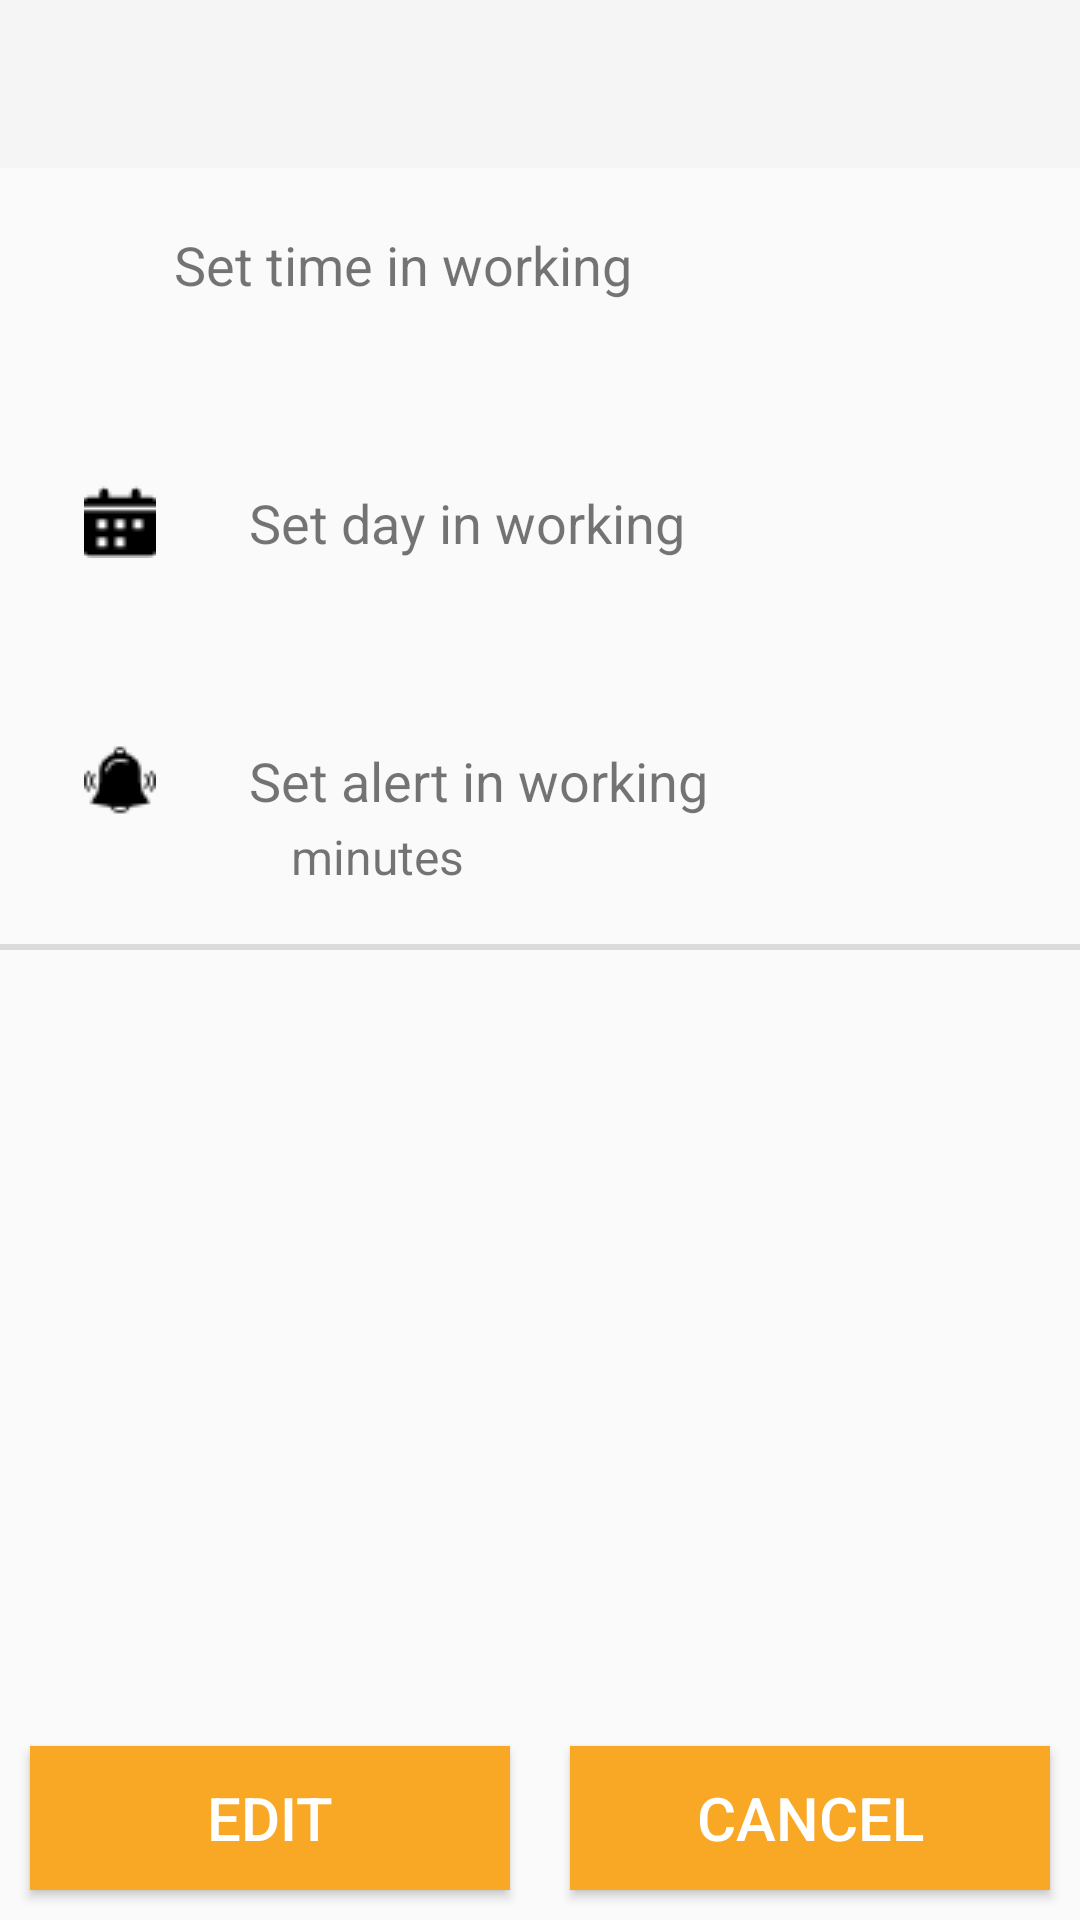

Named icons in this screenshot (1080px×1920px) and their bounding boxes, (x1, y1, x2, y2):
alarm show: (84, 746, 156, 814)
calendar show: (84, 486, 156, 558)
